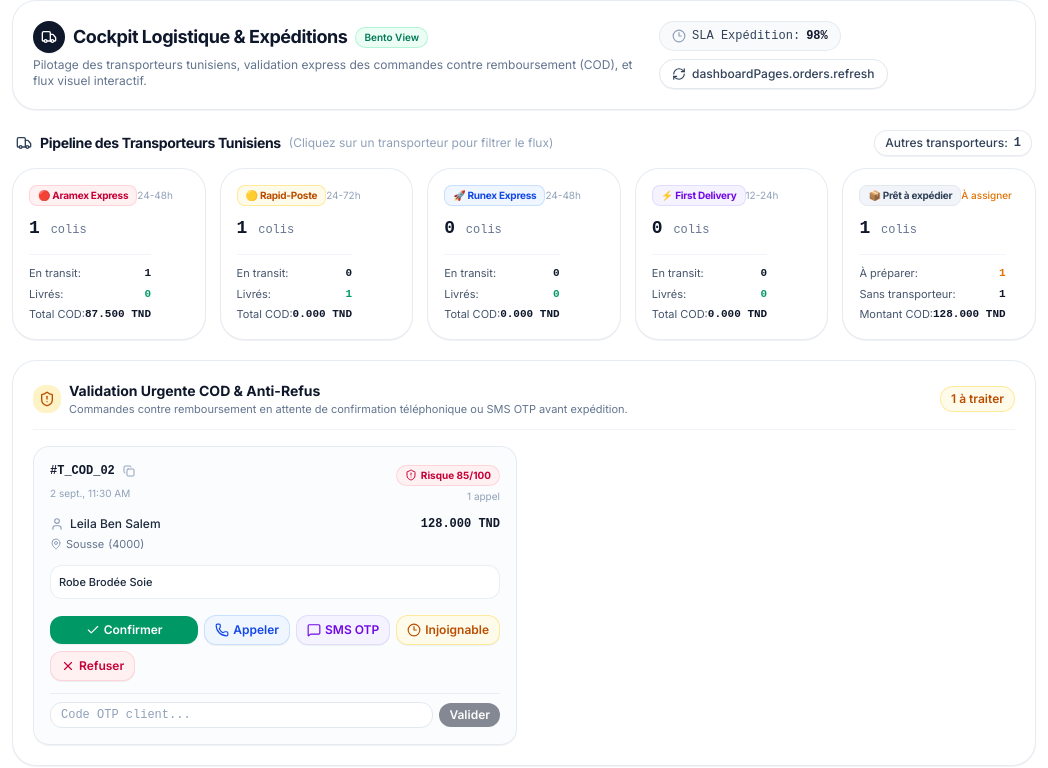
Test case: OrdersBentoCockpit Component › correctly segregates unassigned orders from non-Tunisian carriers and avoids count mismatches
What coordinates should you click on to do the following:
click the button "Prêt à expédier"
I would click on:
 (939, 254)
Its box is [842, 168, 1036, 340].
(page scrolled)
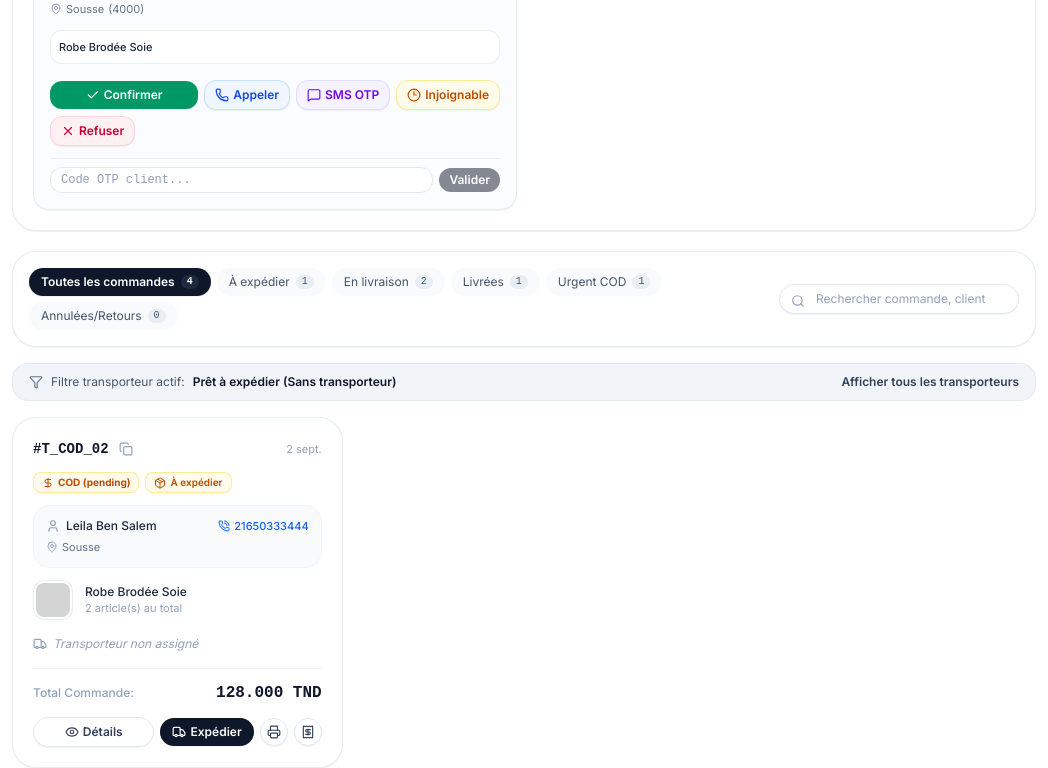
Expected: the text "Leila Ben Salem" is shown, [66, 518, 156, 534]
Expected: the text "Prêt à expédier (Sans transporteur)" is shown, [193, 374, 396, 390]
